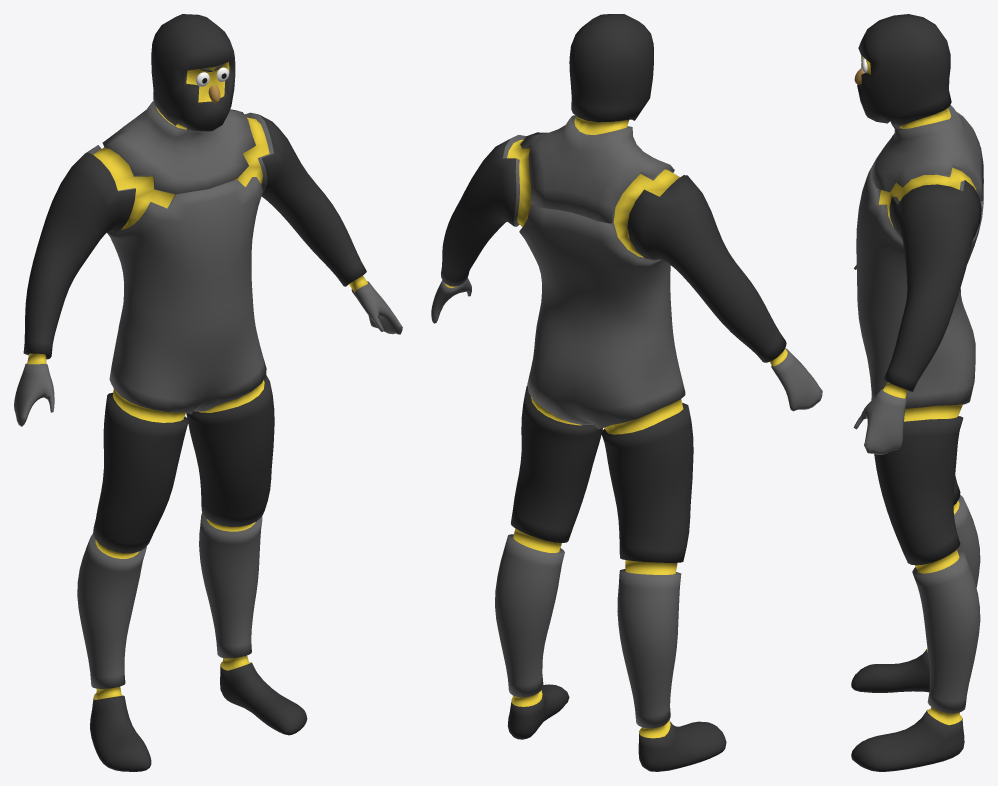
File: Karakter2.fbx
The picture shows the model from 3 angles, left to right: view 1: azimuth 30°, elevation 25°; view 2: azimuth 150°, elevation 25°; view 3: azimuth 270°, elevation 25°; orthographic projection.
Visible parts, largest first — view 1: male_zbrush; view 2: male_zbrush; view 3: male_zbrush.
Boxes of the visible parts, x1=… form: male_zbrush: x1=14, y1=14, x2=402, y2=771; male_zbrush: x1=431, y1=14, x2=822, y2=771; male_zbrush: x1=851, y1=14, x2=983, y2=771.
Bounding box in the file's own units: 158 × 284 × 48.09.
1 material, 1 textured.
